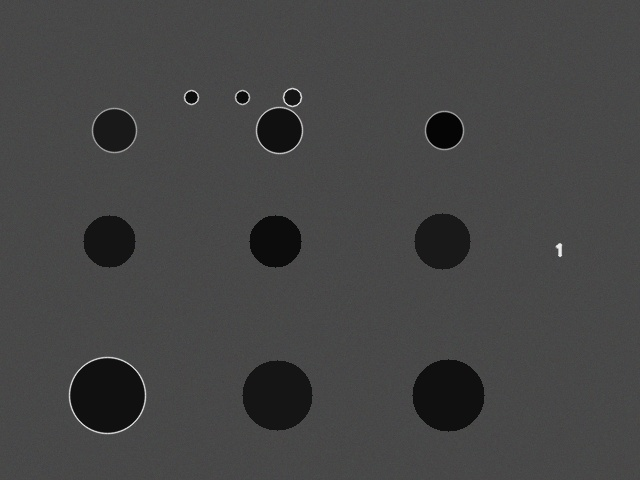hole: (69, 357, 145, 433), (412, 359, 484, 431), (242, 360, 312, 430), (414, 213, 470, 269), (83, 215, 135, 267), (249, 215, 301, 267), (256, 107, 302, 153), (92, 108, 136, 152), (425, 111, 463, 149), (283, 88, 301, 106), (184, 90, 198, 104), (235, 90, 249, 104)
